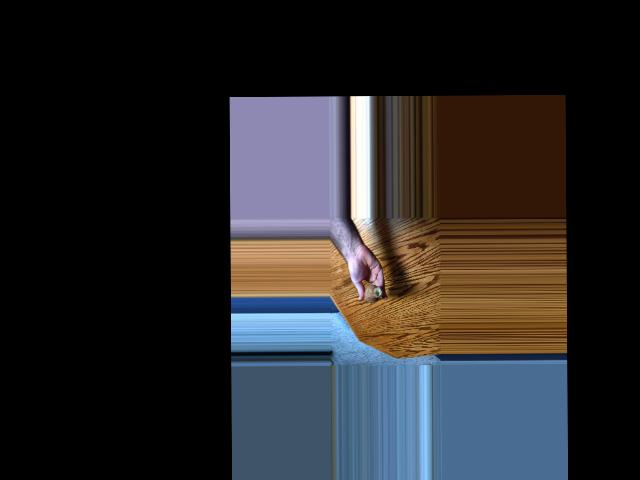sweet_potato: (363, 285, 381, 304)
